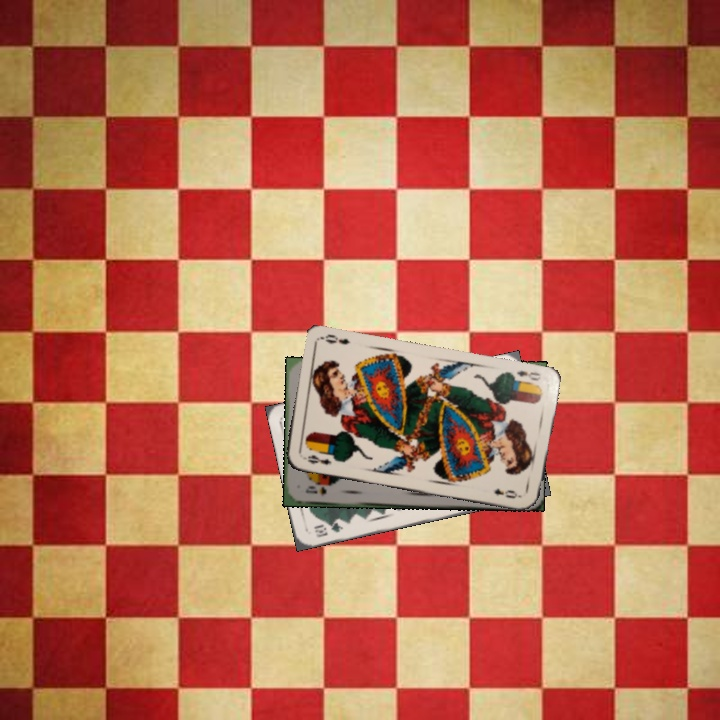EO: (299, 451, 334, 467), (513, 367, 543, 383)
G10: (310, 518, 346, 540)
SO: (301, 482, 329, 499)
